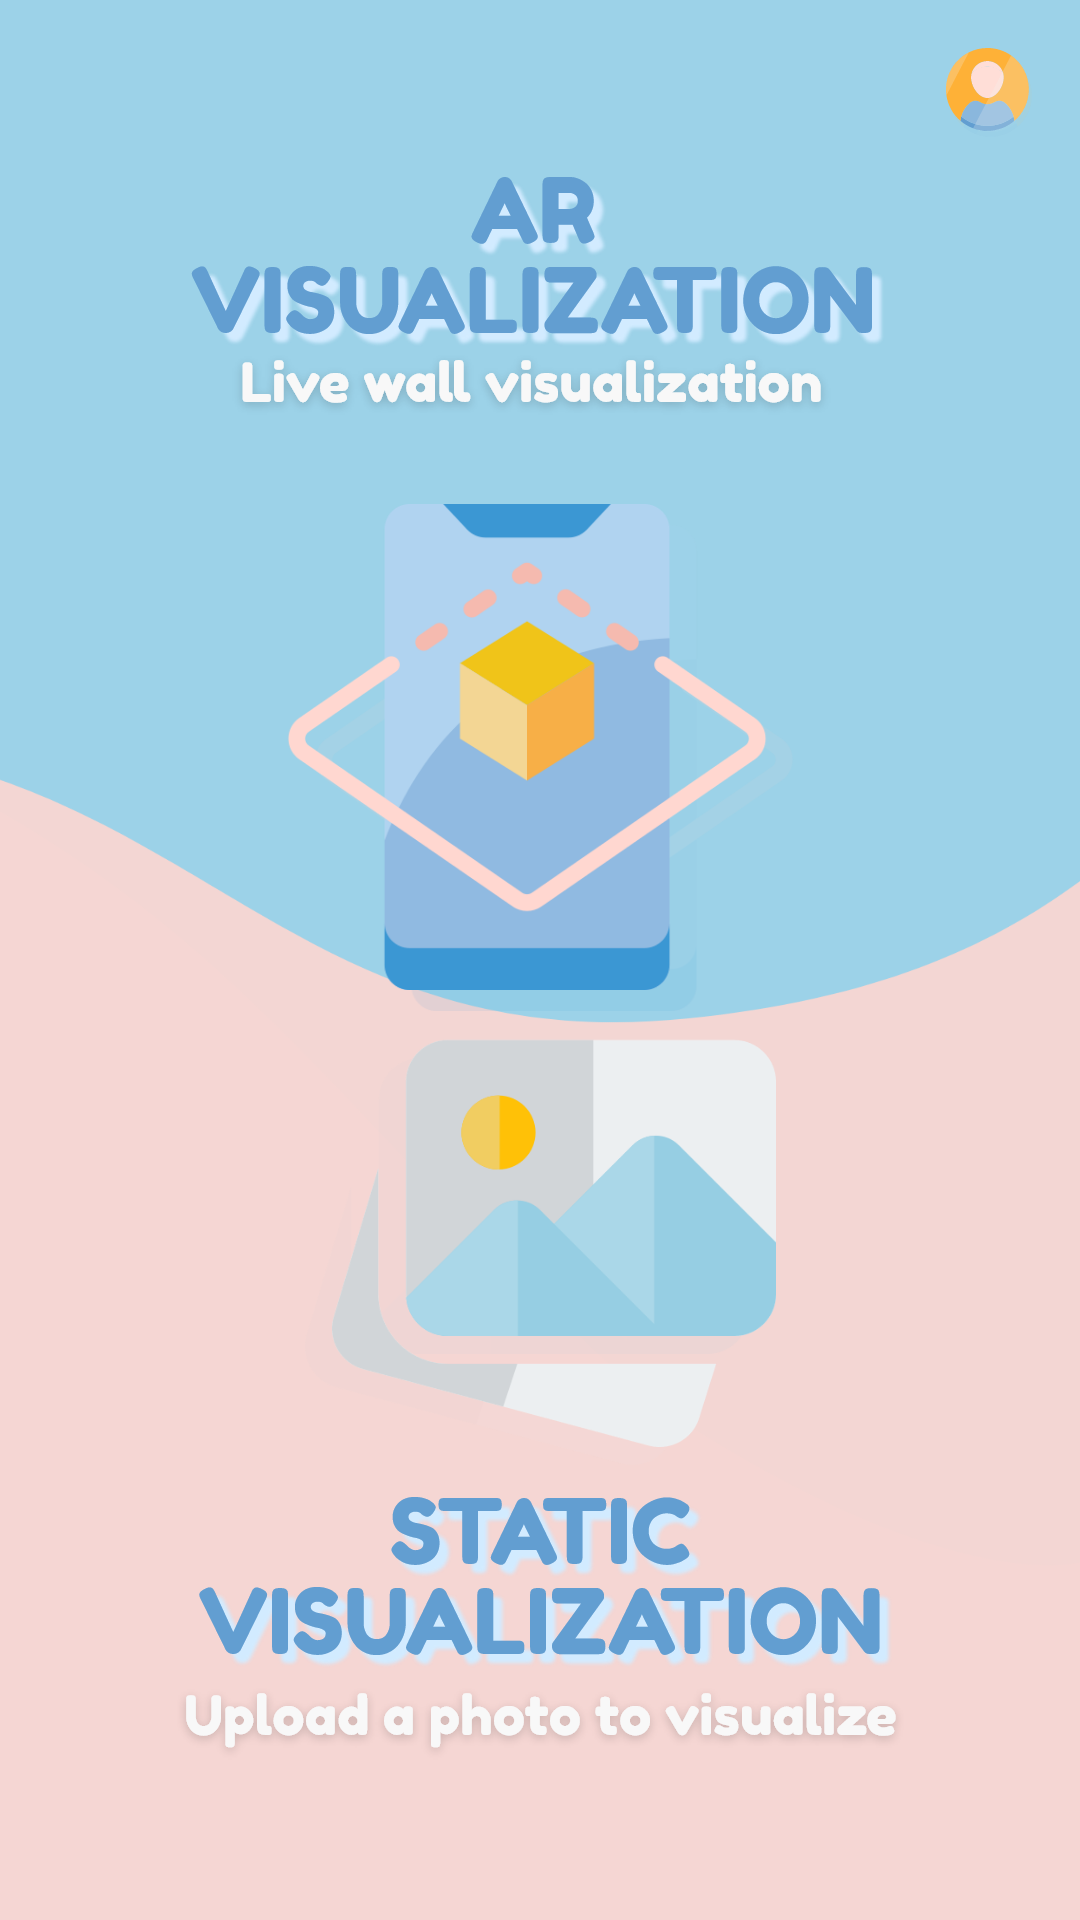

Screen size 1080 × 1920. Icon name, then its box in pixels as [x1,y1,x2,y2]:
profile: [946,48,1029,131]
